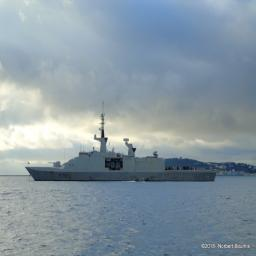Fragata: (24, 99, 220, 186)
